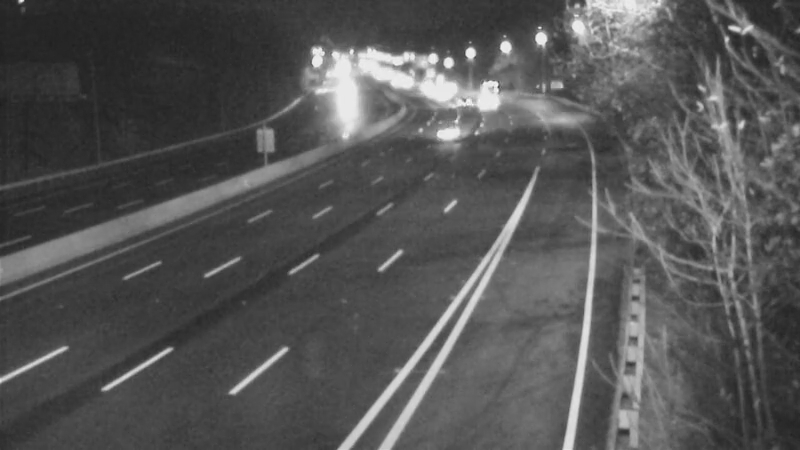vehicle: (396, 61, 446, 111), (459, 59, 509, 109), (434, 76, 484, 126), (458, 78, 508, 128), (425, 102, 475, 152)
